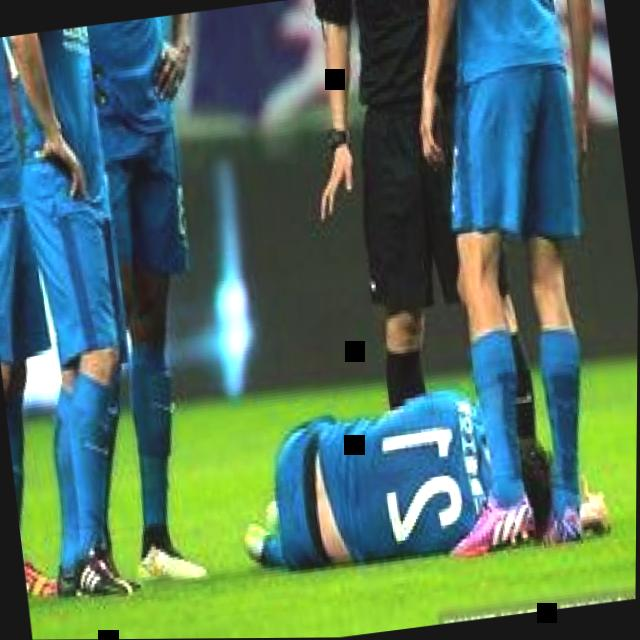Fall-Detected: (229, 345, 594, 574)
